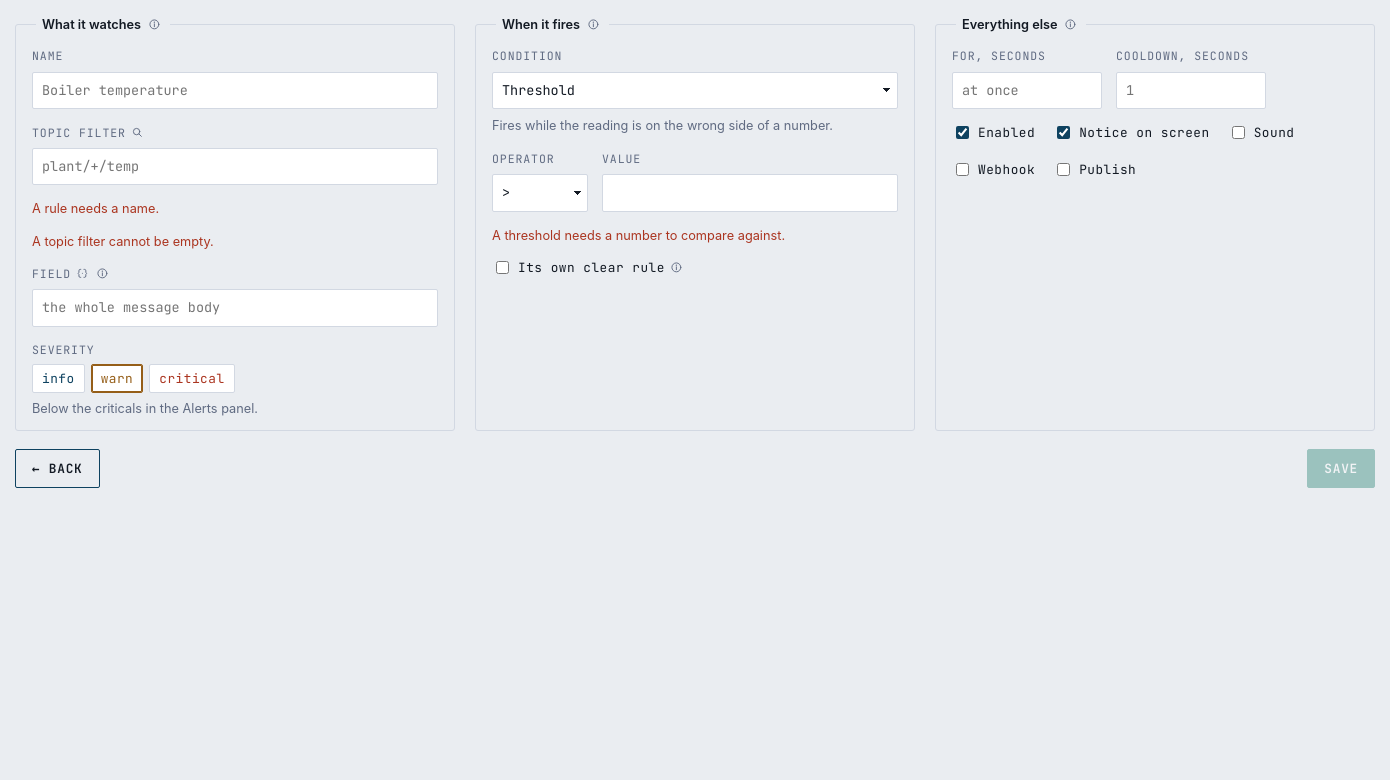
Test case: picking a topic filter off the broker › says so plainly when the broker has sent nothing yet
The image size is (1390, 780).
Click the button named "Show topics on the broker" at {"x": 137, "y": 132}, box [128,123,146,142]
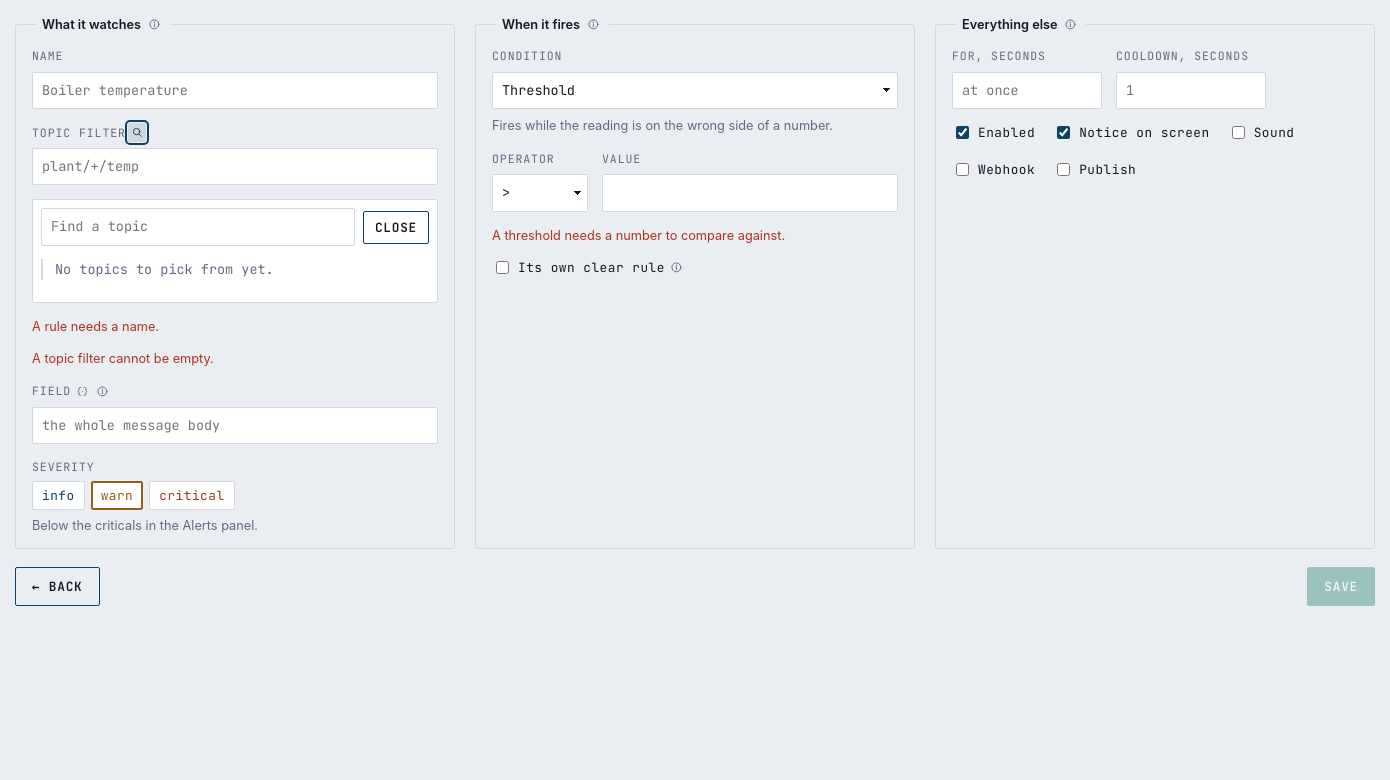
Check: the text "No topics to pick from yet." is shown, box [41,259,429,280]
